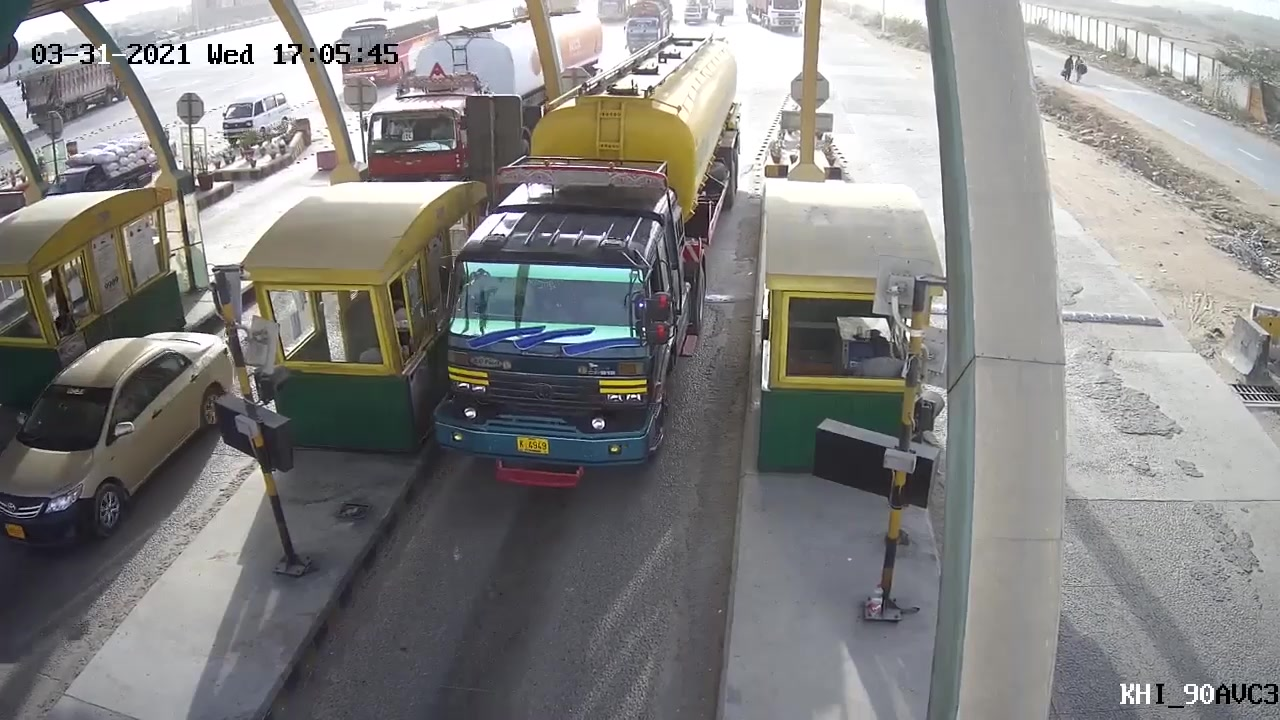F6: (431, 31, 747, 488)
